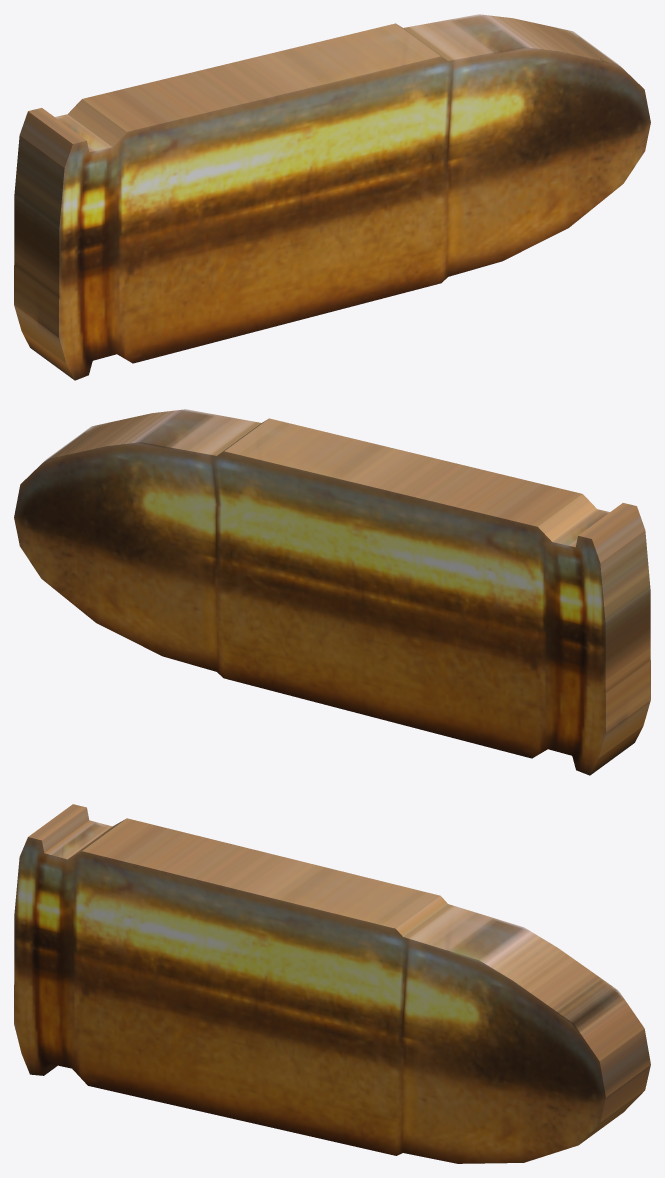
File: nx_cartuccia.glb
3 renders of one model, top to bottom at view 1: azimuth 30°, elevation 25°; view 2: azimuth 150°, elevation 25°; view 3: azimuth 330°, elevation 25°, orthographic.
Parts seen in each view (by area): view 1: Plane.009; view 2: Plane.009; view 3: Plane.009.
Part boxes in pixels (bbox=[...]): Plane.009: bbox=[14, 14, 650, 380]; Plane.009: bbox=[14, 409, 650, 775]; Plane.009: bbox=[14, 804, 650, 1163].
Bounding box in the file's own units: 0.07 × 0.0268 × 0.00922.
Materials: 1 (1 with a texture image).
